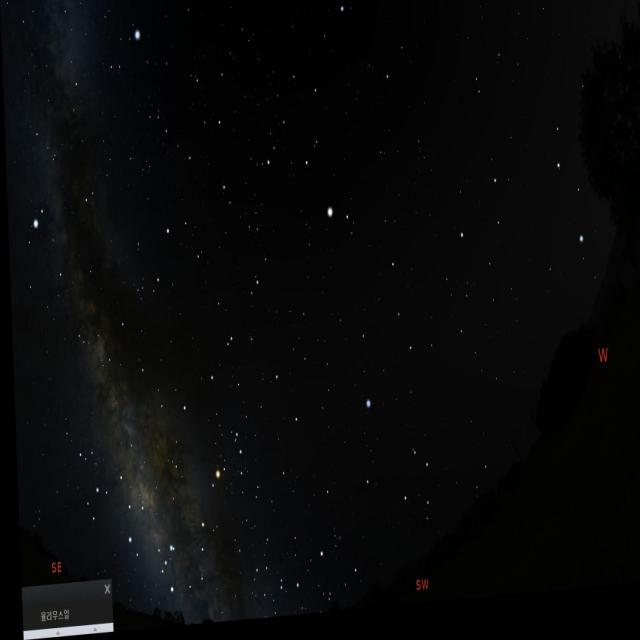aquila: (13, 182, 113, 363)
bootes: (260, 58, 364, 264)
leo: (445, 99, 609, 301)
lyra: (98, 19, 150, 96)
sagittarius: (69, 440, 151, 568)
scorpius: (153, 413, 252, 603)
